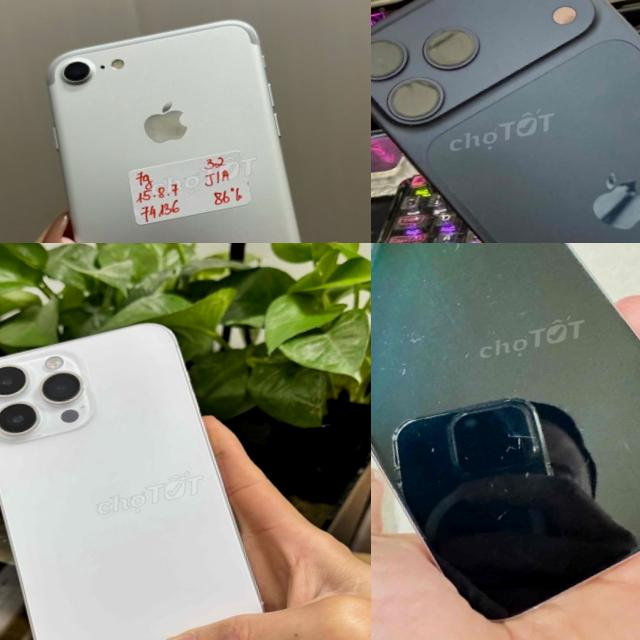gen_14: (0, 295, 281, 640)
gen_15: (371, 243, 640, 640)
gen_17: (371, 0, 640, 243)
gen_7_8: (28, 0, 341, 243)
scratch: (488, 415, 570, 475), (384, 321, 446, 368), (414, 243, 477, 264), (484, 506, 516, 534), (615, 431, 640, 463), (419, 443, 443, 469)
